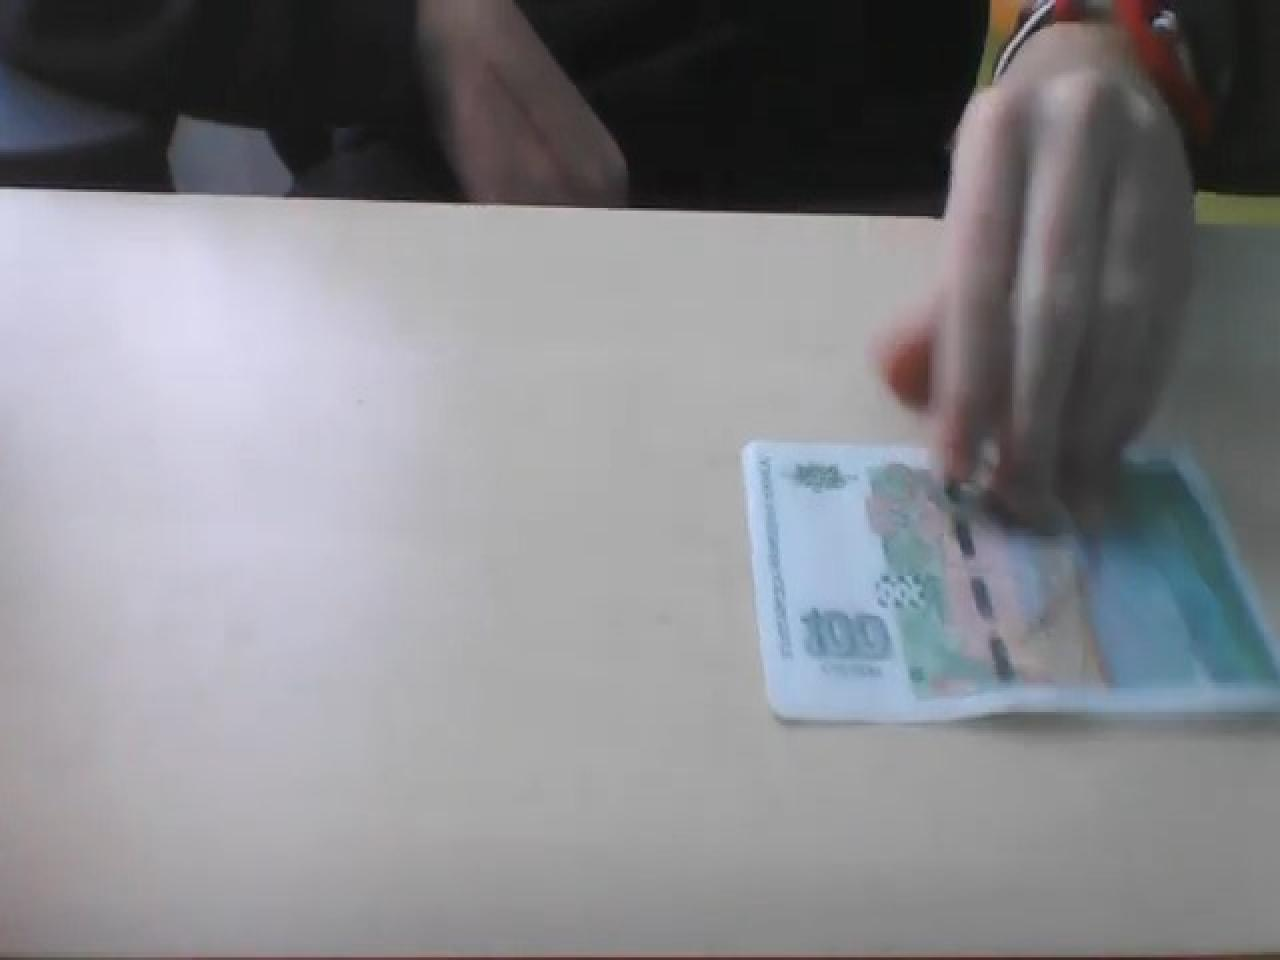100leva: (740, 440, 1280, 733)
